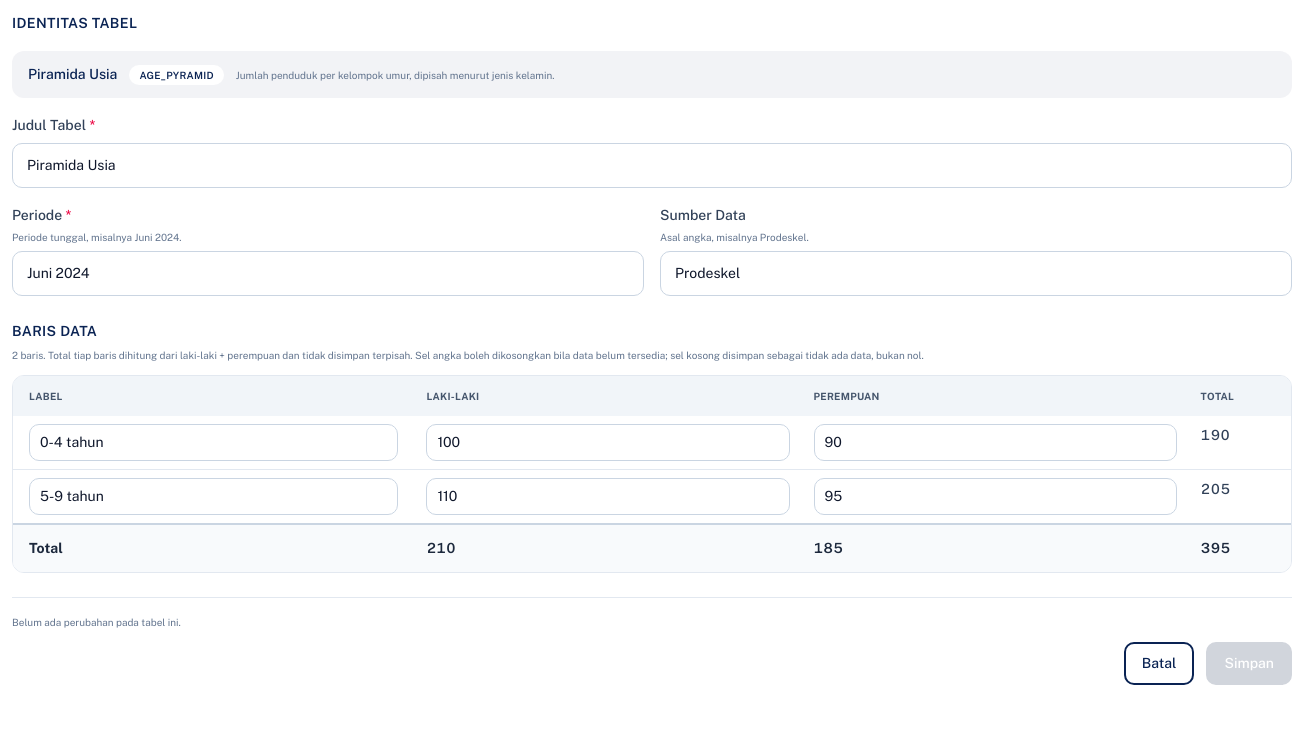
Scenario: TableIndicatorForm.vue › shows no derived total until both sex cells are filled
Clear the field with id "table-row-row-1-female". click: (995, 442)
box: [814,424,1177,461]
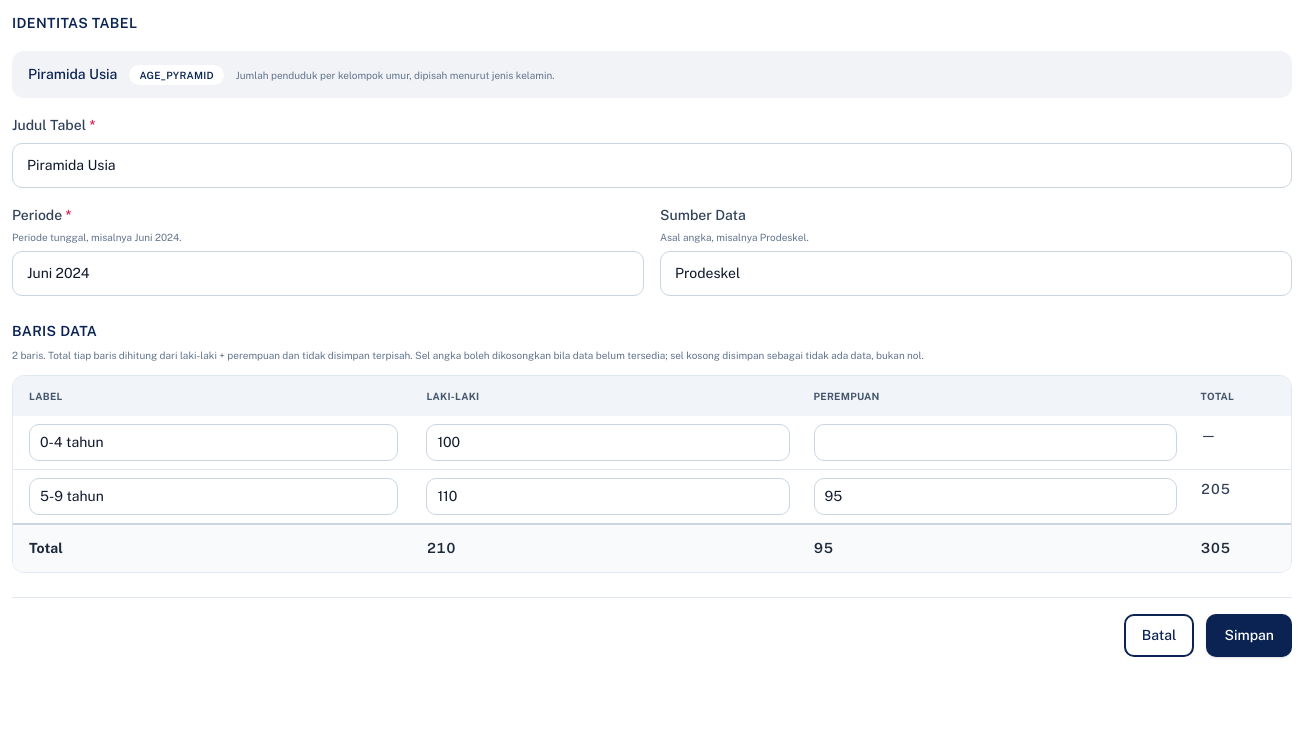
Expected: the cell with test id "derived-total" reads "205", [1201,481,1230,497]
Result: the cell with test id "derived-total" reads "—" at [1201,427,1216,443]
